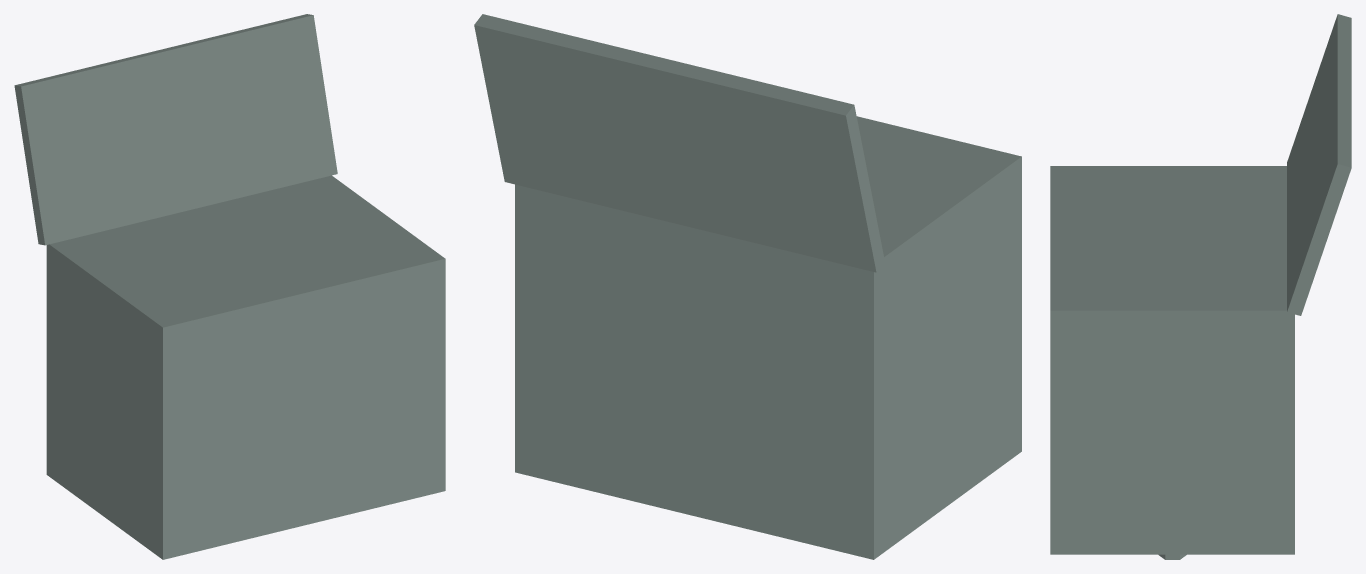
File: SM_Contenedor_v1_Abierto_LOD0.fbx
3 renders of one model, left to right at view 1: azimuth 30°, elevation 25°; view 2: azimuth 150°, elevation 25°; view 3: azimuth 270°, elevation 25°, orthographic. The views are drawn at different scales.
Visible parts, largest first — view 1: SM_urbano_extra_v1_LOD0; view 2: SM_urbano_extra_v1_LOD0; view 3: SM_urbano_extra_v1_LOD0.
Boxes of the visible parts, x1=… form: SM_urbano_extra_v1_LOD0: x1=14, y1=14, x2=445, y2=559; SM_urbano_extra_v1_LOD0: x1=474, y1=14, x2=1021, y2=559; SM_urbano_extra_v1_LOD0: x1=1050, y1=14, x2=1351, y2=559.
Size of the model in its own units: 1.45 by 1.84 by 1.23.
